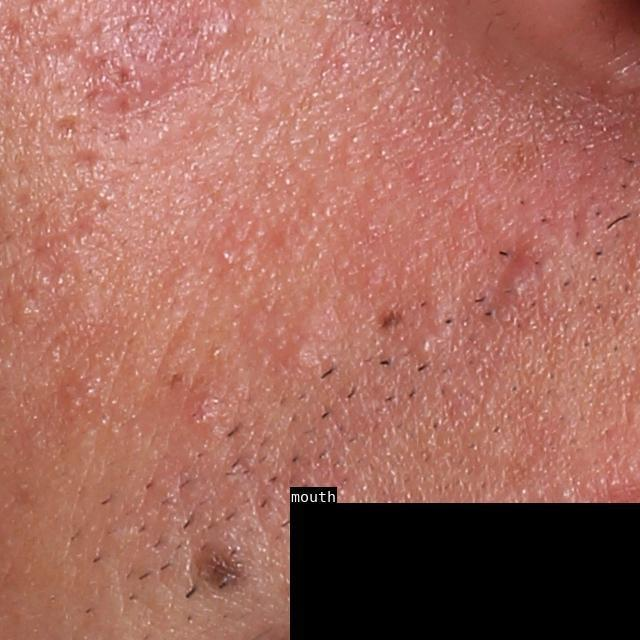atrophic_scar: (50, 113, 81, 138), (69, 146, 104, 168)
comedo: (409, 331, 442, 363), (286, 341, 313, 365)
nevus: (200, 544, 247, 597), (373, 300, 407, 333)
papule: (498, 259, 538, 314), (203, 6, 242, 46)
